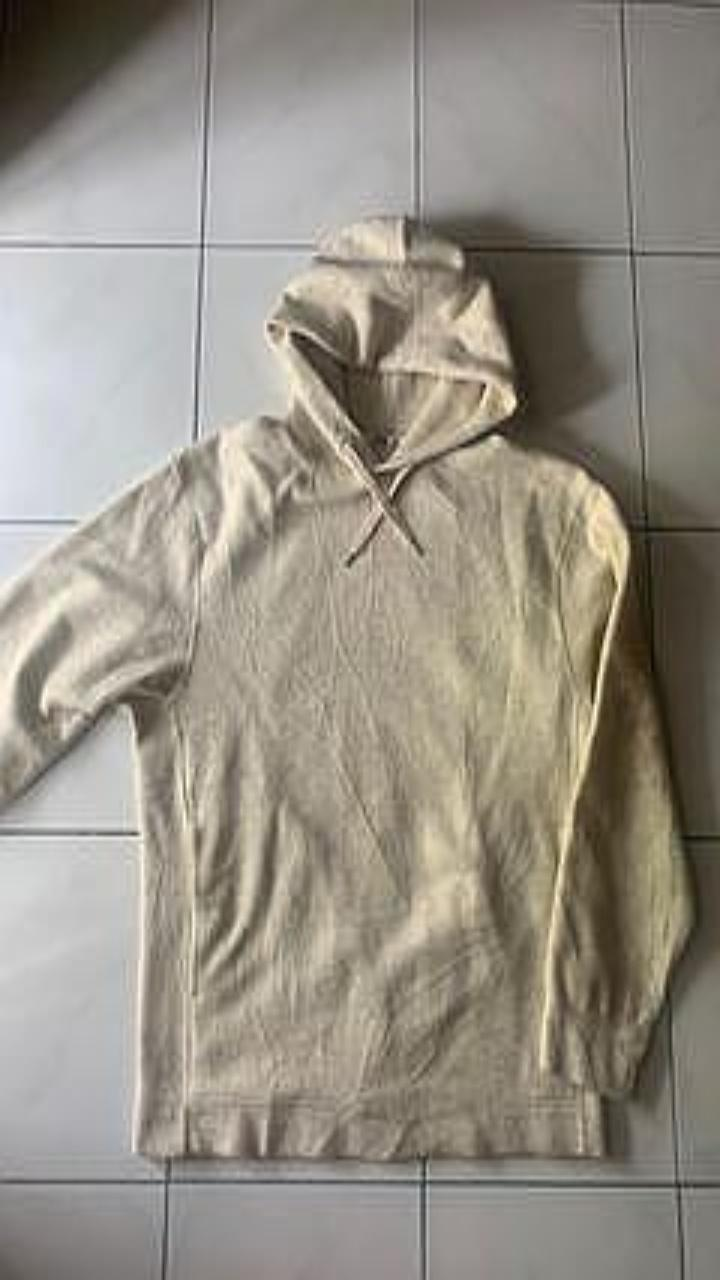Hoodie: (0, 216, 692, 1158)
